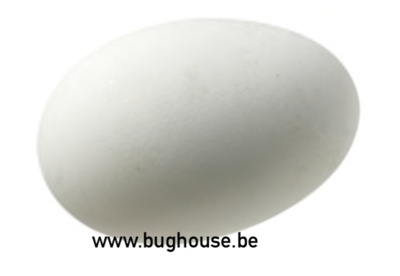Egg: (26, 14, 367, 247)
